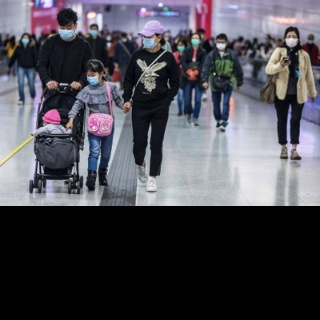with_mask: (57, 24, 75, 40), (85, 72, 100, 86), (141, 36, 156, 50), (285, 34, 299, 48), (215, 40, 227, 51), (189, 36, 200, 46), (176, 43, 185, 52), (20, 36, 29, 44), (89, 27, 97, 36), (105, 34, 112, 41), (121, 36, 128, 42), (308, 39, 314, 44)
